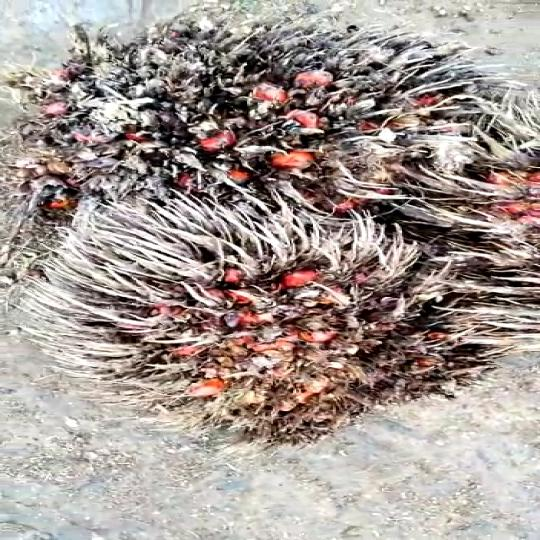terlalu masak: (11, 216, 440, 434), (45, 21, 513, 211)
